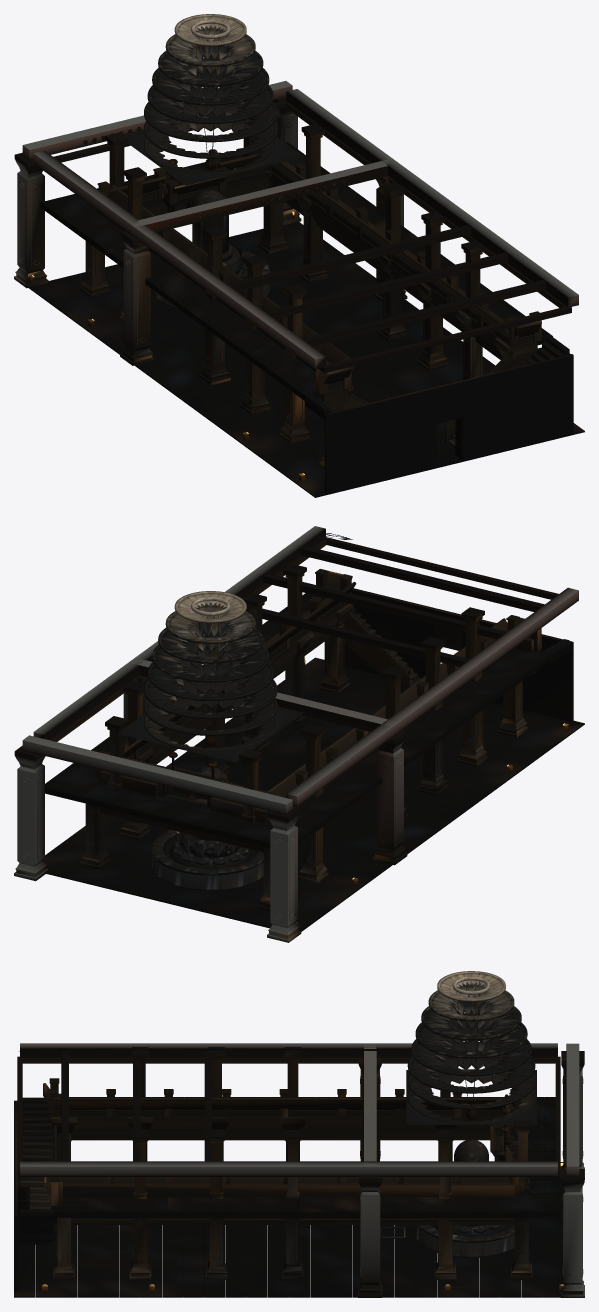
The model's file is interior.glb.
3 views of the same model, one above another, from view 1: azimuth 30°, elevation 25°; view 2: azimuth 150°, elevation 25°; view 3: azimuth 270°, elevation 25° (orthographic). The views are drawn at different scales.
Parts seen in each view (by area): view 1: interior • baked irradiance; view 2: interior • baked irradiance; view 3: interior • baked irradiance.
Boxes of the visible parts, x1=… form: interior • baked irradiance: x1=14, y1=14, x2=584, y2=497; interior • baked irradiance: x1=14, y1=526, x2=584, y2=942; interior • baked irradiance: x1=14, y1=971, x2=584, y2=1297.
Bounding box in the file's own units: 12.71 × 11.59 × 23.95.
